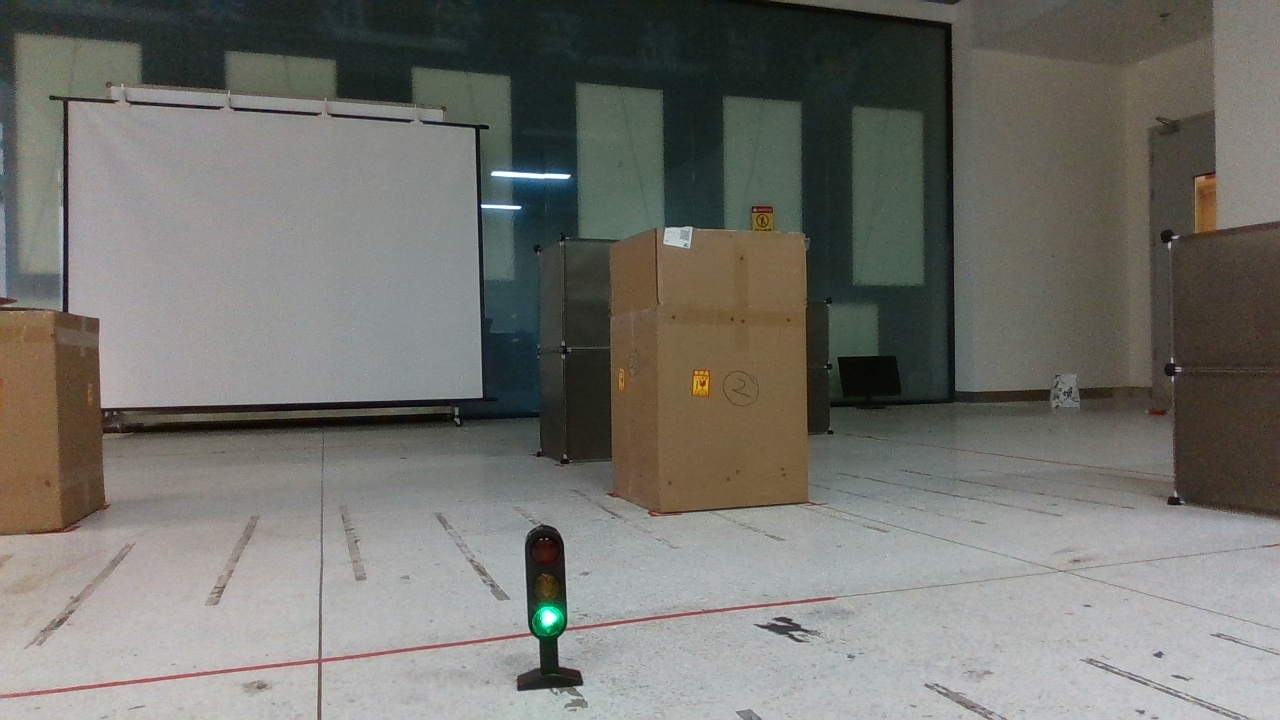green_light: (511, 518, 595, 698)
